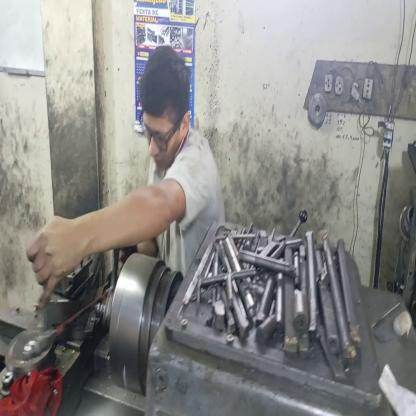lentes: (136, 106, 183, 154)
